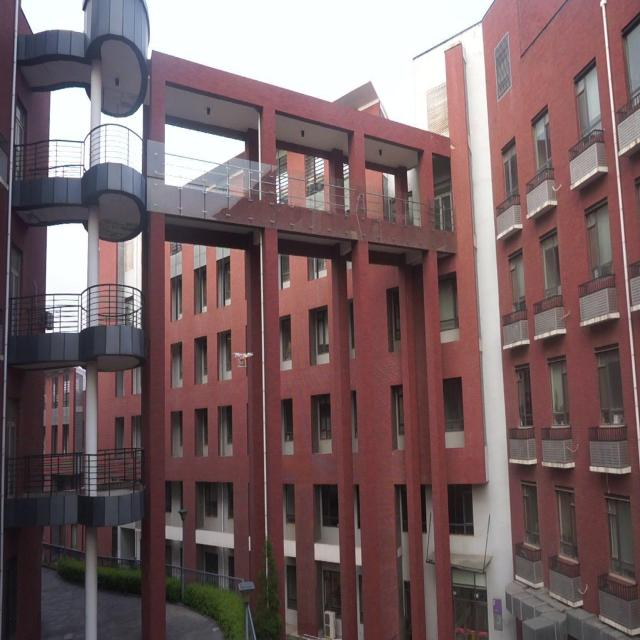UAV: (233, 352, 253, 368)
